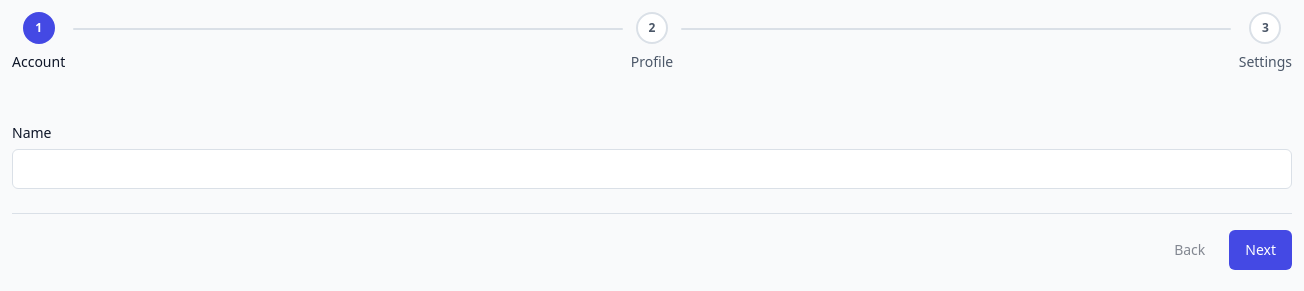
Test: FormWizard — navigation › clicking a visited step indicator navigates to it
This screenshot has width=1304, height=291.
In the field labelled "Name": (652, 169) [12,149,1292,189], type "Ada"
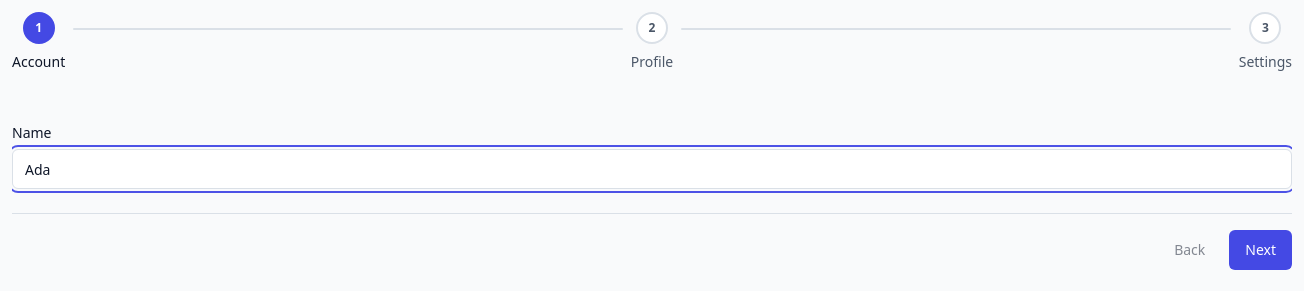
Click the button with test id "wizard-next": (1261, 250) [1229,230,1292,270]
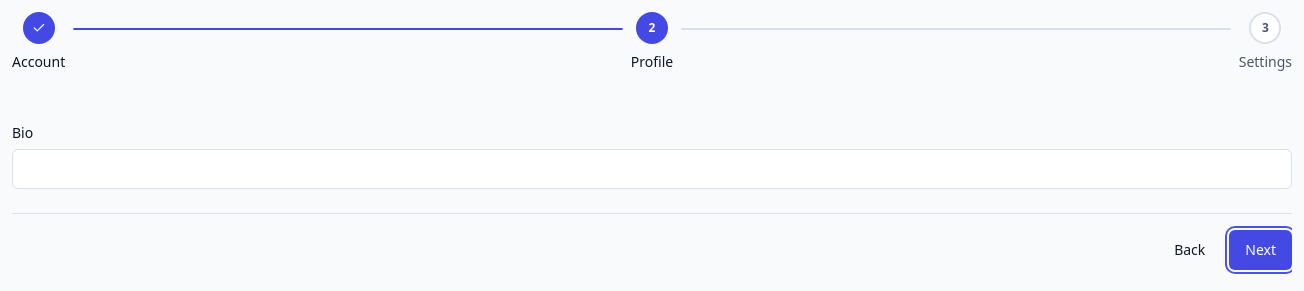
Click the tab named "Account": (39, 28) [23,12,55,44]
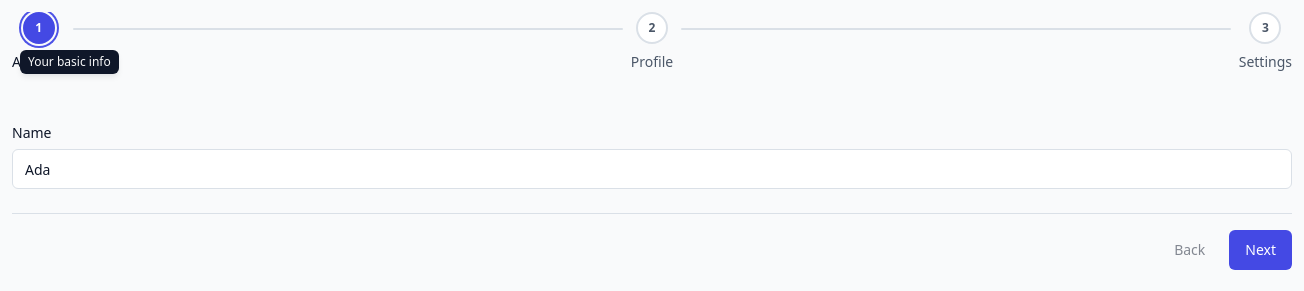
Now the field labelled "Name" is shown, box [12,149,1292,189]
